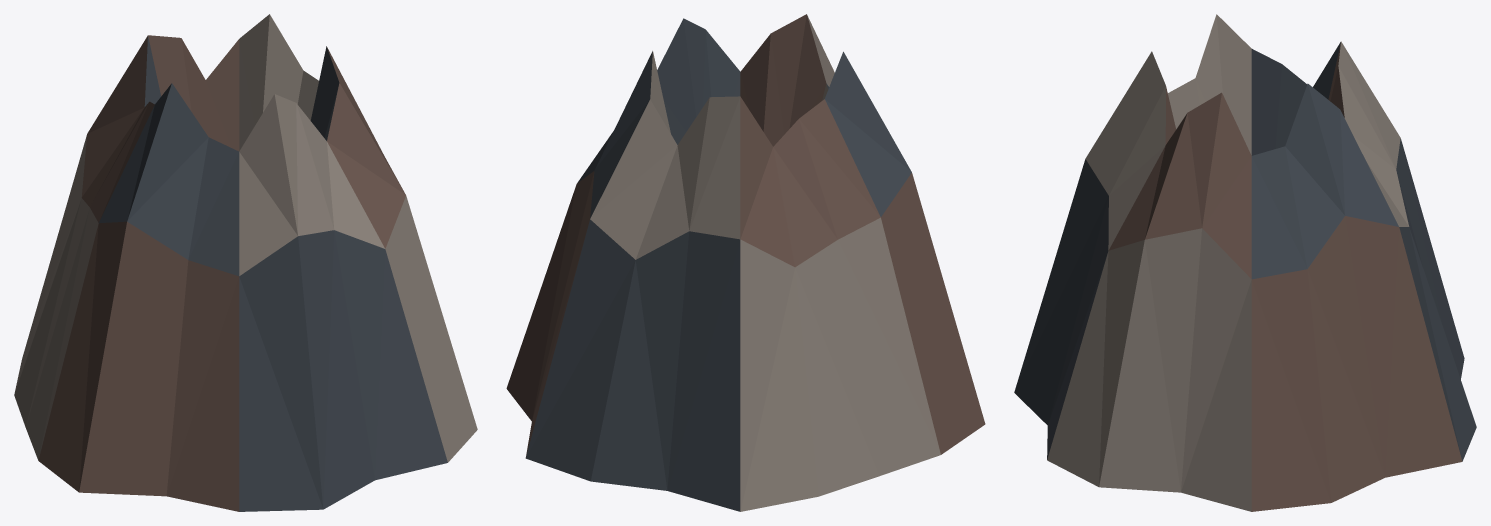
Rendered from AE_Volcano_CinderCone.fbx.
3 renders of one model, left to right at view 1: azimuth 30°, elevation 25°; view 2: azimuth 150°, elevation 25°; view 3: azimuth 270°, elevation 25°, orthographic. The views are drawn at different scales.
Parts seen in each view (by area): view 1: AE_Volcano_CinderCone; view 2: AE_Volcano_CinderCone; view 3: AE_Volcano_CinderCone.
Part boxes in pixels (x1,y1,x2,y2): AE_Volcano_CinderCone: [14, 14, 477, 511]; AE_Volcano_CinderCone: [506, 14, 985, 511]; AE_Volcano_CinderCone: [1014, 14, 1476, 511].
Size of the model in its own units: 1.69 by 1.42 by 1.67.
